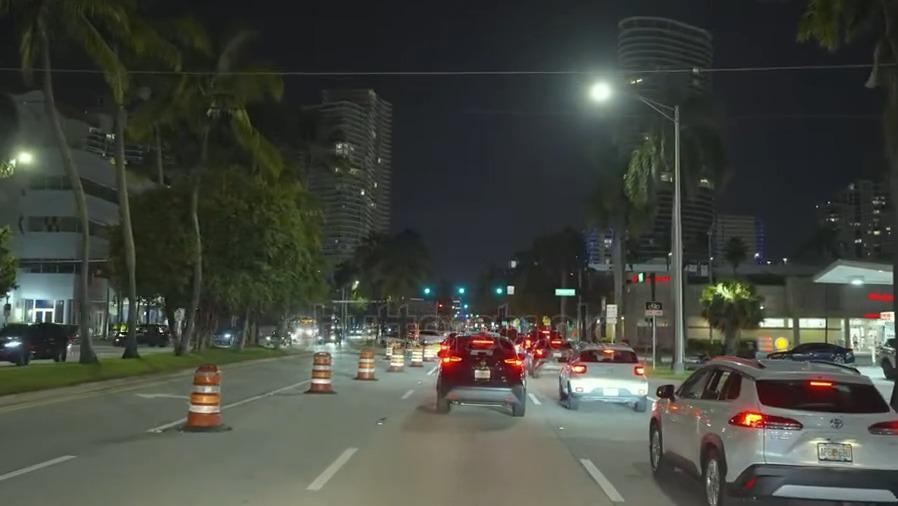car: (650, 352, 898, 506), (433, 331, 528, 420), (557, 341, 649, 409), (0, 319, 72, 365), (772, 342, 853, 363), (113, 322, 171, 351), (530, 338, 570, 372)
cone: (189, 360, 223, 431), (309, 350, 332, 390), (355, 347, 375, 379), (387, 344, 405, 372), (409, 343, 423, 367)
traffic light: (448, 281, 471, 301), (490, 281, 509, 305), (418, 282, 435, 300)
wheel: (694, 442, 728, 503), (647, 415, 668, 474)
